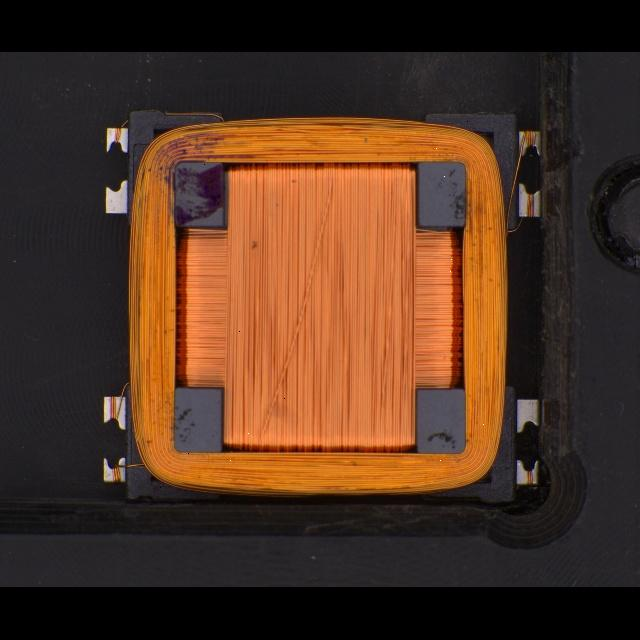Winding_Z: (121, 110, 513, 498)
